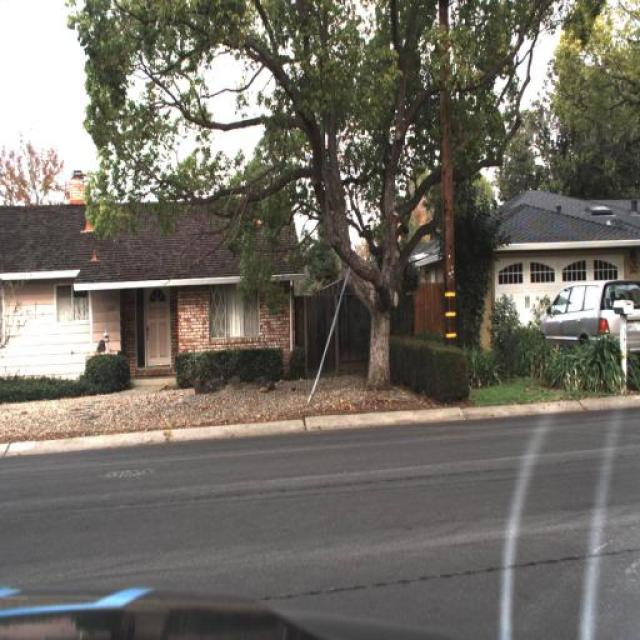car: (530, 276, 640, 358)
